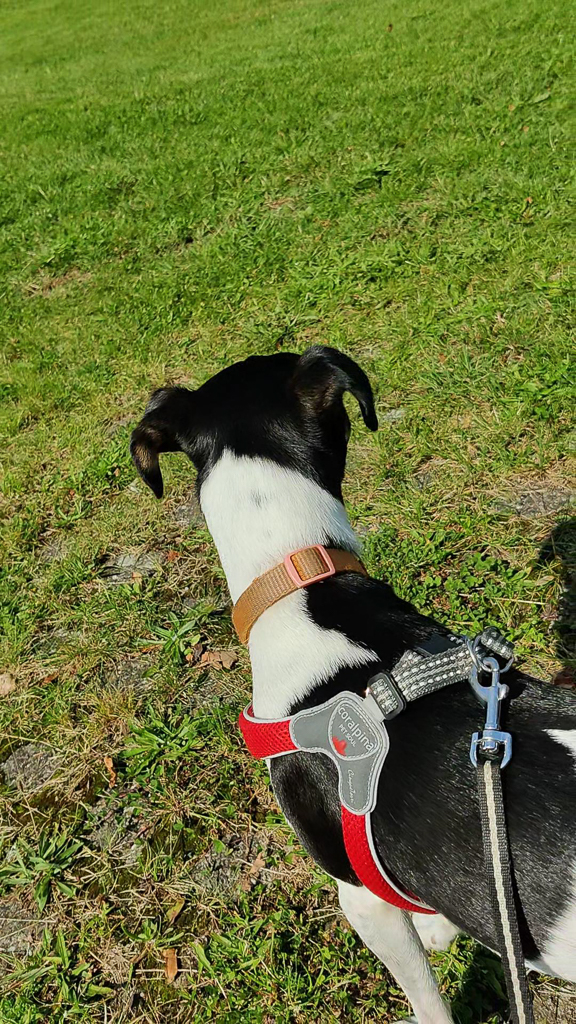Dog: (112, 331, 576, 1024)
